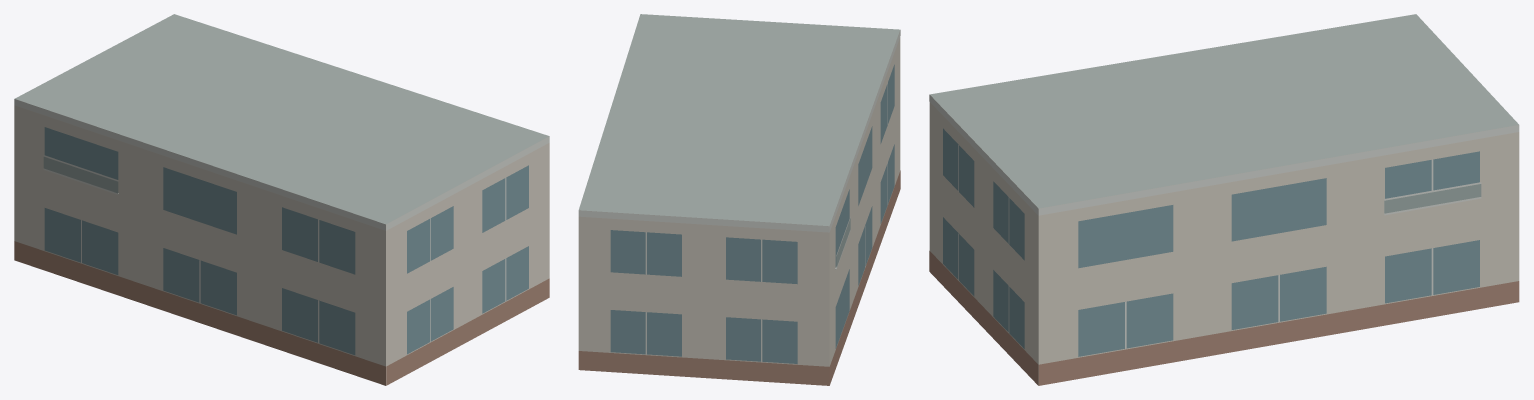
The model's file is survey-upis-32850541.glb.
3 renders of one model, left to right at view 1: azimuth 30°, elevation 25°; view 2: azimuth 150°, elevation 25°; view 3: azimuth 270°, elevation 25°, orthographic. The views are drawn at different scales.
Parts seen in each view (by area): view 1: survey-upis-32850541.tmp; view 2: survey-upis-32850541.tmp; view 3: survey-upis-32850541.tmp.
Boxes of the visible parts, x1,y1,x2,y2 form: survey-upis-32850541.tmp: (14,14,549,385); survey-upis-32850541.tmp: (578,14,900,385); survey-upis-32850541.tmp: (929,14,1519,385).
Size of the model in its own units: 14.37 by 6.1 by 18.4.
